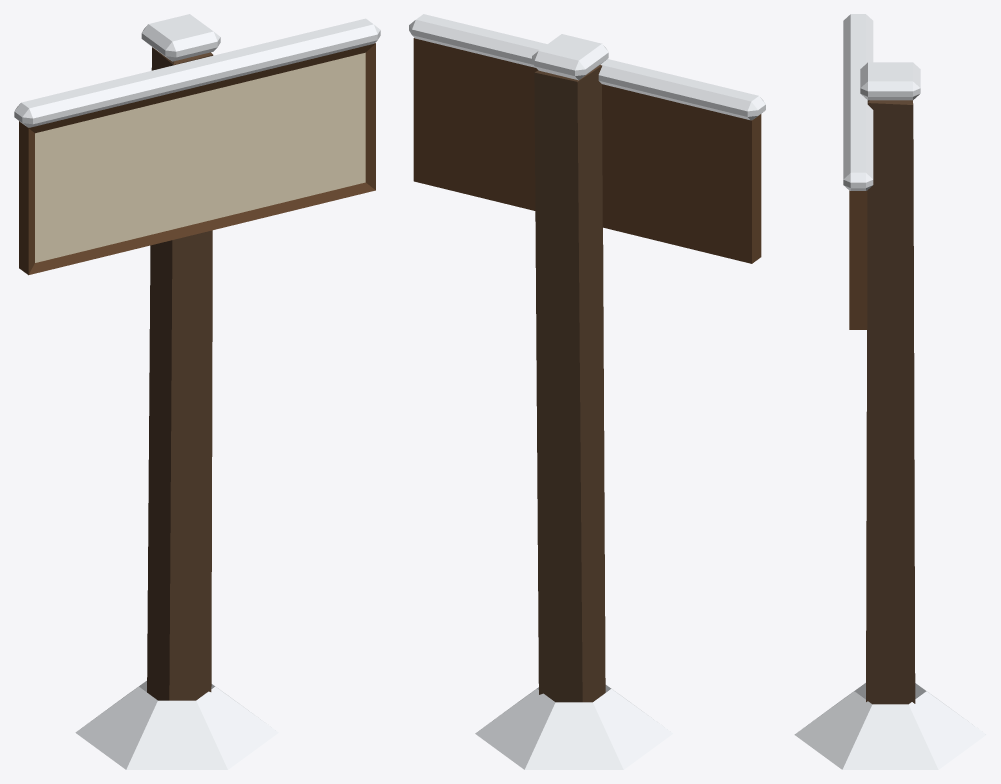
File: trail-sign.glb
3 views of the same model, side by side, from view 1: azimuth 30°, elevation 25°; view 2: azimuth 150°, elevation 25°; view 3: azimuth 270°, elevation 25° (orthographic). The views are drawn at different scales.
Parts seen in each view (by area): view 1: trail-sign; view 2: trail-sign; view 3: trail-sign.
Boxes of the visible parts, x1,y1,x2,y2 form: trail-sign: (14, 14, 380, 769); trail-sign: (409, 14, 765, 769); trail-sign: (794, 14, 986, 769).
Bounding box in the file's own units: 1.3 × 2.44 × 0.64.
